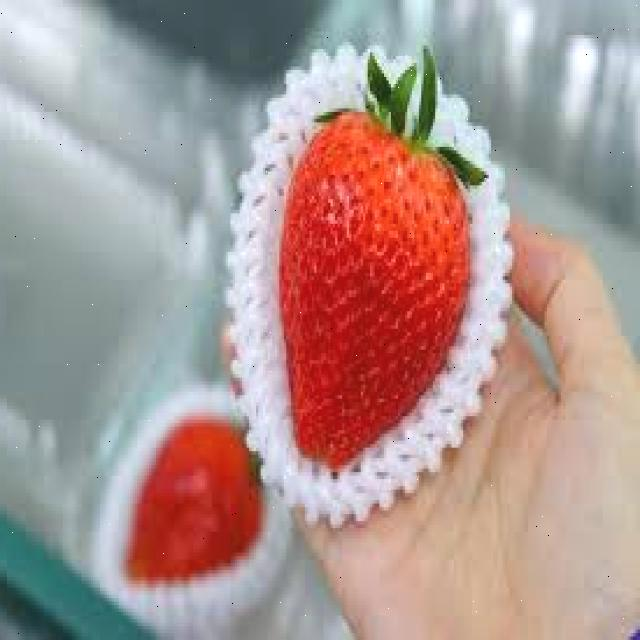ripe: (279, 110, 471, 468), (125, 414, 263, 584)
